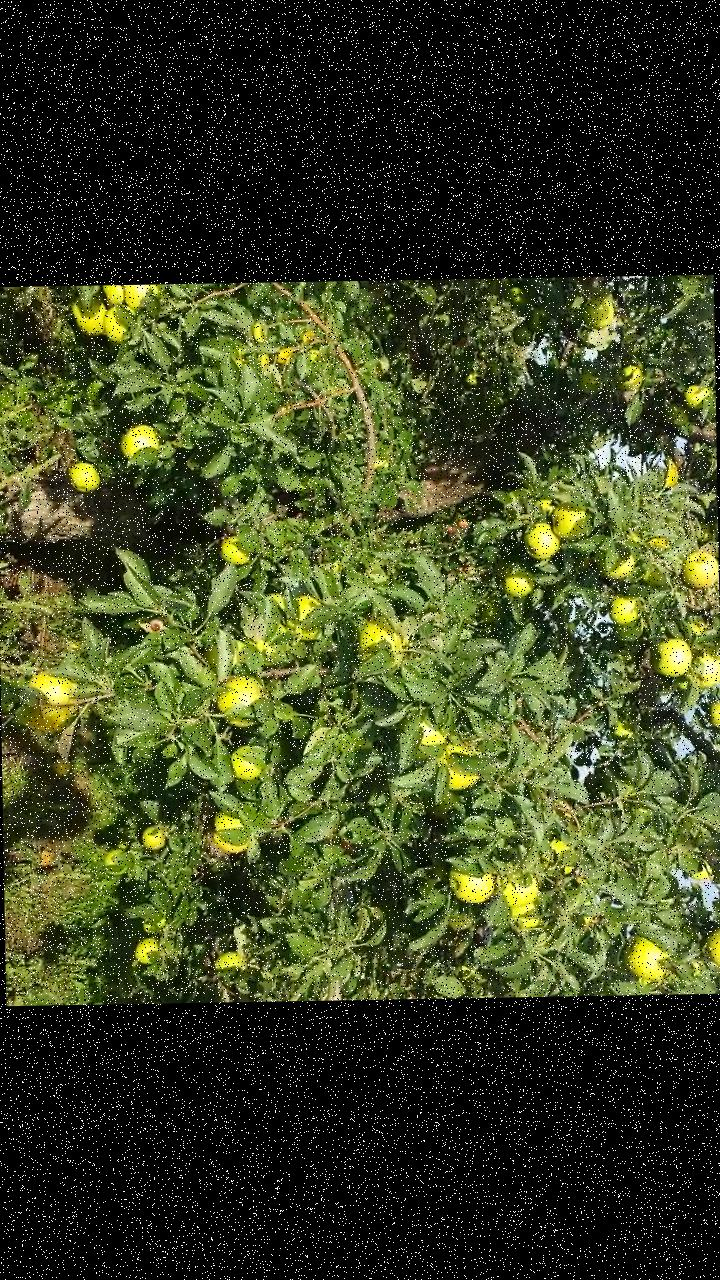Apple: (18, 668, 82, 729), (354, 612, 410, 674), (217, 674, 268, 730), (621, 934, 676, 984), (212, 808, 256, 856), (548, 498, 596, 538), (70, 290, 109, 339), (442, 744, 483, 790), (244, 622, 290, 663), (521, 518, 563, 562), (117, 422, 161, 462), (449, 869, 498, 904), (657, 635, 696, 677), (502, 868, 542, 908), (293, 592, 325, 642), (581, 288, 618, 330), (680, 548, 718, 588), (105, 302, 136, 346), (608, 592, 644, 628), (599, 548, 640, 579), (502, 562, 538, 596), (219, 530, 253, 566), (70, 458, 106, 492), (548, 835, 578, 874), (230, 744, 262, 778), (696, 648, 719, 692), (417, 721, 452, 747), (684, 380, 714, 409), (578, 362, 605, 394), (618, 362, 647, 391), (513, 898, 543, 926), (127, 284, 161, 308), (613, 617, 647, 640), (527, 303, 550, 334), (688, 858, 714, 885), (211, 949, 246, 969), (144, 822, 167, 852), (105, 846, 129, 874), (136, 936, 162, 961), (100, 284, 130, 304), (613, 714, 634, 739), (512, 323, 535, 344), (709, 926, 719, 969), (270, 590, 290, 610), (538, 494, 558, 512), (698, 521, 714, 541), (709, 702, 719, 732), (689, 619, 706, 635), (712, 513, 717, 539)
